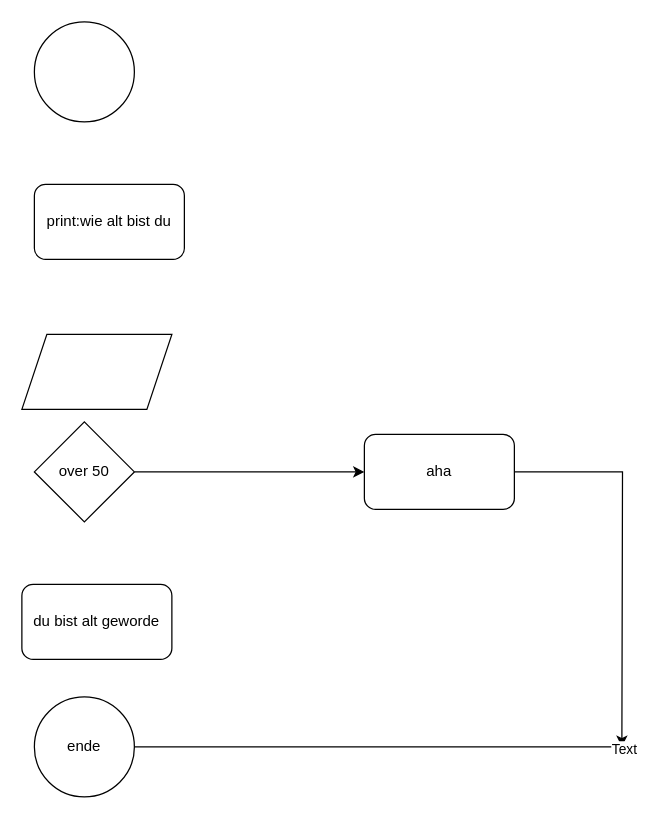
This 666x819 diagram has some shape labels left out. The shapes that lost their labels are listed below. From the top down, each one's centre as x and y in pixels, then its label:
At (x=83, y=71): "start".
At (x=96, y=371): "input".
